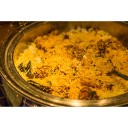briyani: (27, 34, 128, 95)
